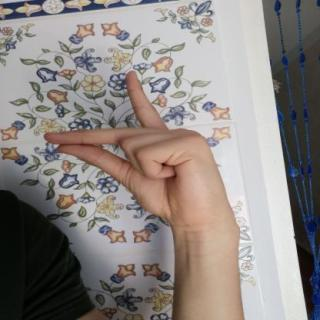TAA: (33, 64, 240, 231)
